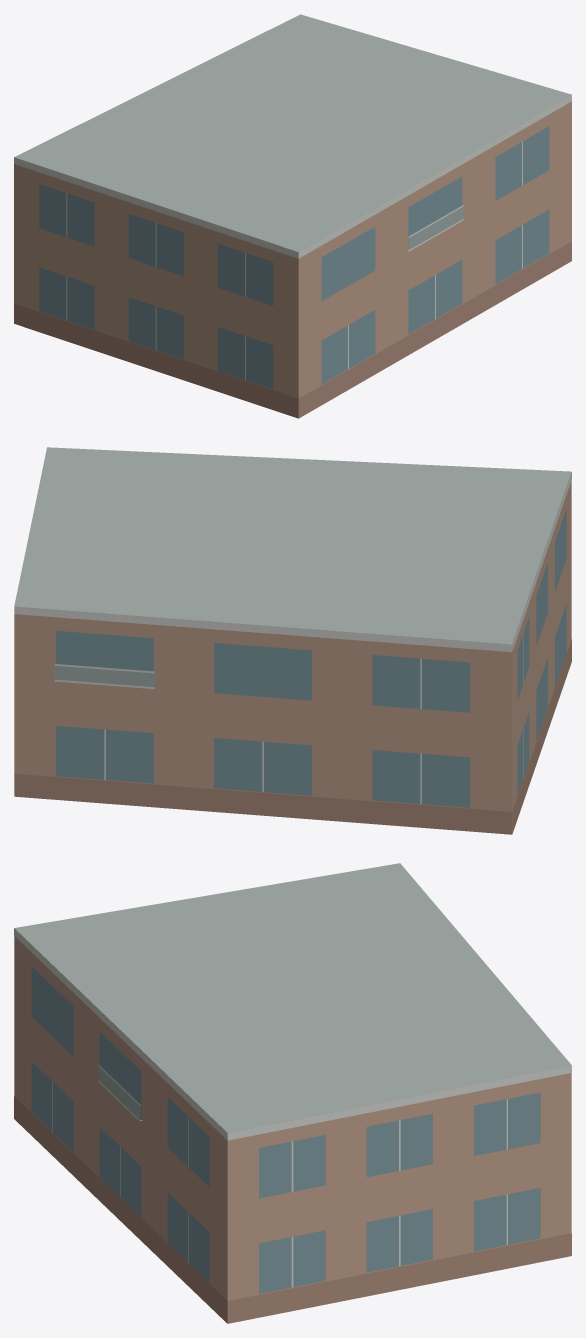
File: survey-upis-32835904.glb
3 renders of one model, top to bottom at view 1: azimuth 30°, elevation 25°; view 2: azimuth 150°, elevation 25°; view 3: azimuth 270°, elevation 25°, orthographic. The views are drawn at different scales.
Visible parts, largest first — view 1: survey-upis-32835904.tmp; view 2: survey-upis-32835904.tmp; view 3: survey-upis-32835904.tmp.
Part boxes in pixels (left/top/right/bottom): survey-upis-32835904.tmp: left=14, top=14, right=571, bottom=418; survey-upis-32835904.tmp: left=14, top=447, right=571, bottom=834; survey-upis-32835904.tmp: left=14, top=863, right=571, bottom=1323.
Size of the model in its own units: 18.52 by 6.1 by 16.17.
